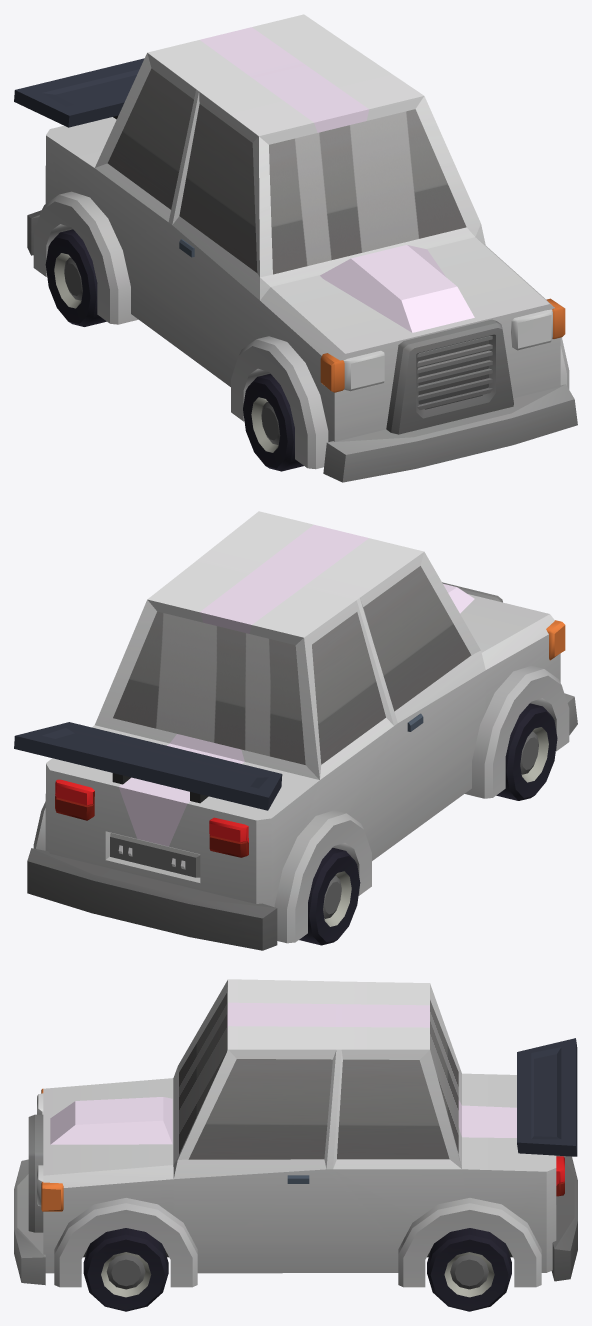
The model's file is SportCar_7.glb.
3 renders of one model, top to bottom at view 1: azimuth 30°, elevation 25°; view 2: azimuth 150°, elevation 25°; view 3: azimuth 270°, elevation 25°, orthographic. The views are drawn at different scales.
Visible parts, largest first — view 1: SportCar_7, Wheel_fr, Wheel_br; view 2: SportCar_7, Wheel_br, Wheel_fr; view 3: SportCar_7, Wheel_fl, Wheel_bl.
Part boxes in pixels (x1,y1,x2,y2): SportCar_7: [14, 14, 577, 482]; Wheel_fr: [243, 373, 303, 471]; Wheel_br: [45, 229, 106, 326]; SportCar_7: [14, 511, 577, 950]; Wheel_br: [299, 847, 360, 945]; Wheel_fr: [496, 703, 557, 800]; SportCar_7: [14, 979, 577, 1287]; Wheel_fl: [83, 1228, 168, 1311]; Wheel_bl: [427, 1228, 511, 1311].
Size of the model in its own units: 1.12 by 1.1 by 2.33.
7 materials, 7 textured.
